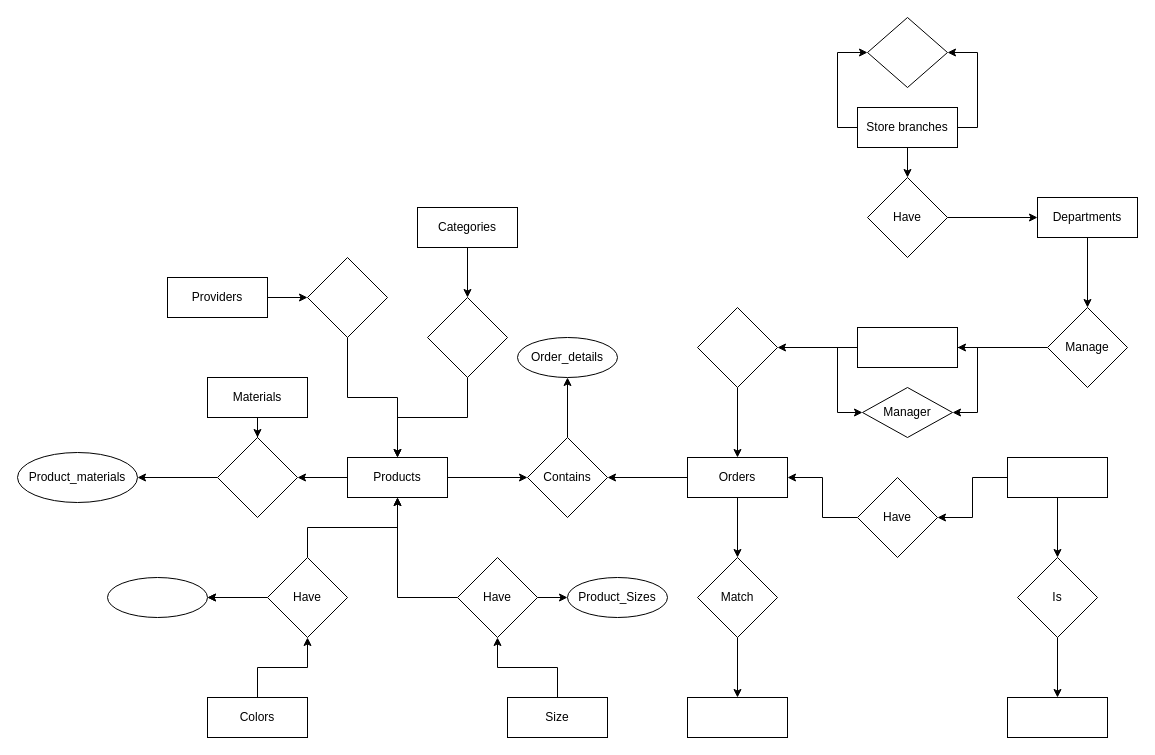
Image size: 1155x755. Some labels were removed from this diagram. Each missing label, with the centre of its shape:
Contain: (467,337)
Created by: (257,477)
Customers: (1057,477)
Employees: (907,347)
Main Company: (907,52)
Product_colors: (157,597)
Provide: (347,297)
Responsible: (737,347)
Sale Events: (737,717)
VIP: (1057,717)
